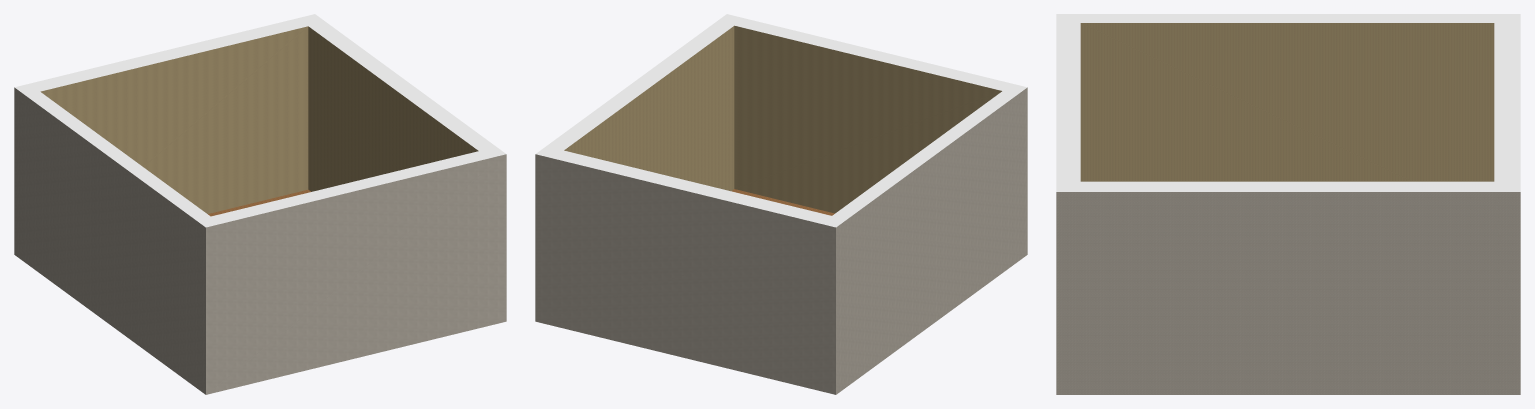
The model's file is Raum1.dae.
The picture shows the model from 3 angles, left to right: view 1: azimuth 30°, elevation 25°; view 2: azimuth 150°, elevation 25°; view 3: azimuth 270°, elevation 25°; orthographic projection. The views are drawn at different scales.
Parts seen in each view (by area): view 1: SketchUp (×3); view 2: SketchUp (×3); view 3: SketchUp (×3).
Boxes of the visible parts, x1=… form: SketchUp (×3): x1=14, y1=14, x2=506, y2=394; SketchUp (×3): x1=535, y1=14, x2=1027, y2=394; SketchUp (×3): x1=1056, y1=14, x2=1520, y2=394.
Bounding box in the file's own units: 10287 × 11348 × 5474.
4 materials, 3 textured.
